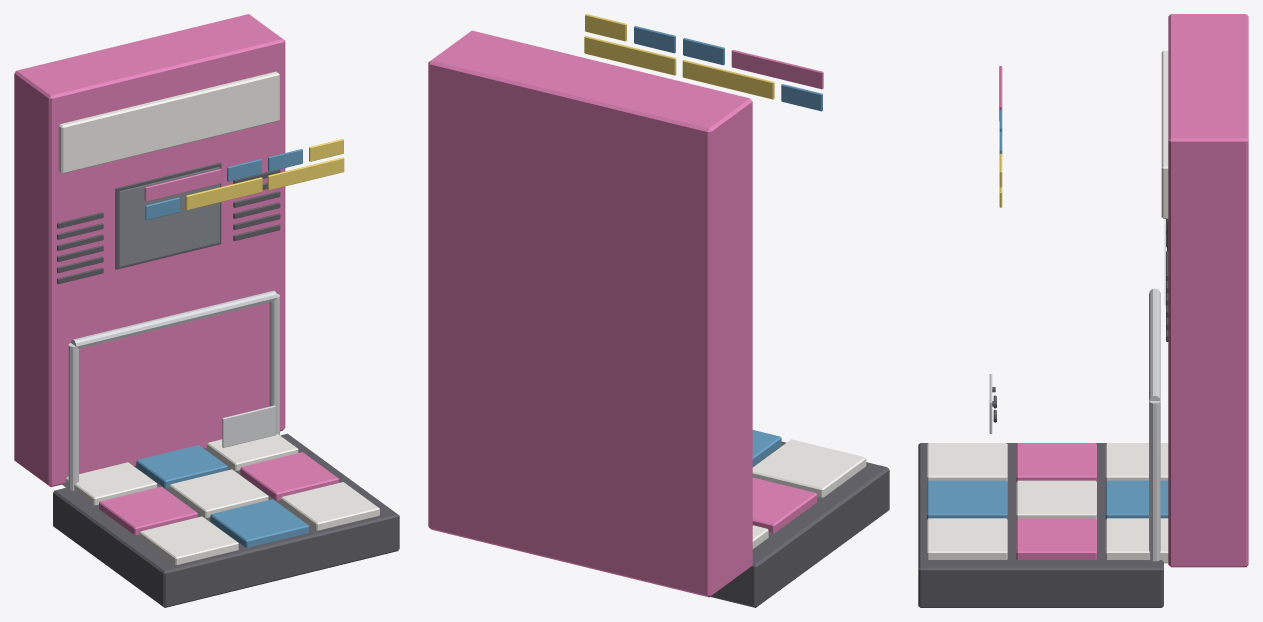
File: amusement-arcade-and-seaside-pier-dance-machine-13e6325d__35411.glb
The picture shows the model from 3 angles, left to right: view 1: azimuth 30°, elevation 25°; view 2: azimuth 150°, elevation 25°; view 3: azimuth 270°, elevation 25°; orthographic projection. The views are drawn at different scales.
Visible parts, largest first — view 1: dance-machine; view 2: dance-machine; view 3: dance-machine.
Boxes of the visible parts, left/top/right/bottom form: dance-machine: left=14, top=14, right=399, bottom=607; dance-machine: left=428, top=14, right=889, bottom=607; dance-machine: left=918, top=14, right=1248, bottom=607.
Size of the model in its own units: 1.34 by 2.32 by 1.48.
